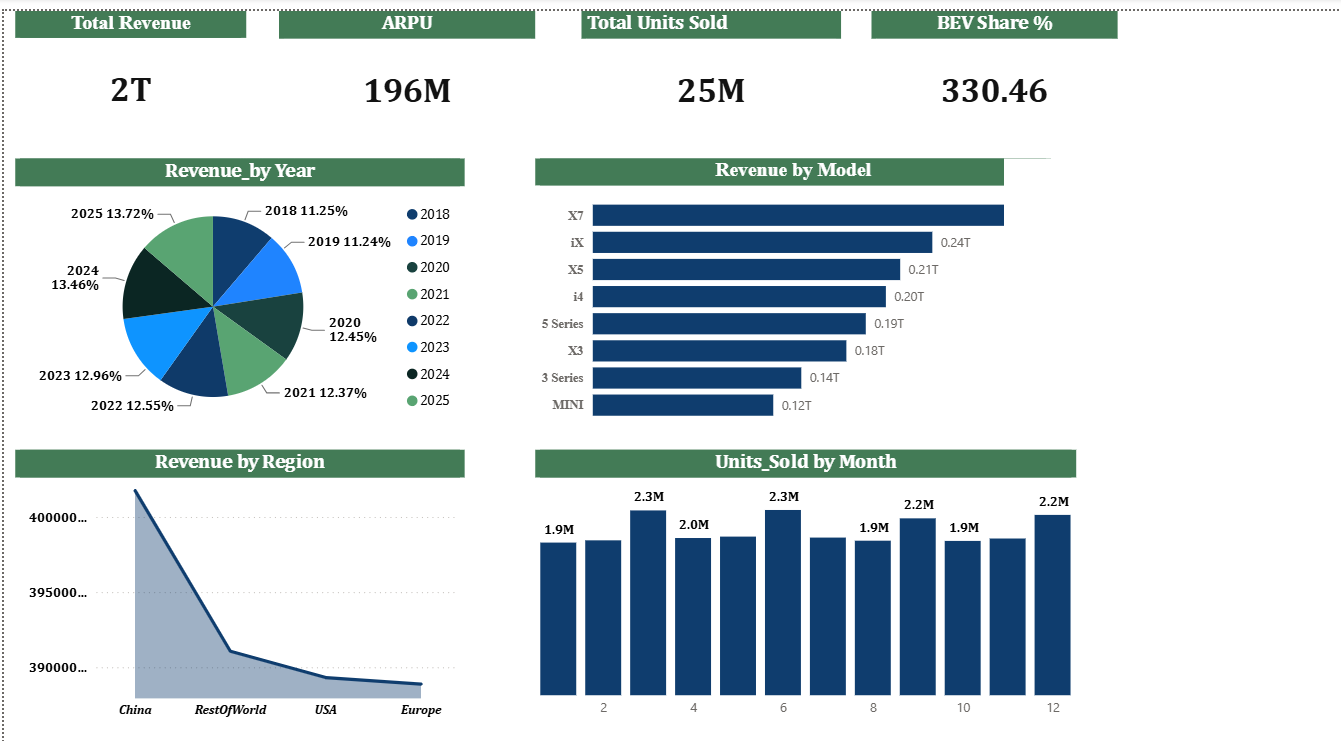

Layout of this report page (visuals, bound fields, positions):
{"tool":"powerbi","page":{"name":"Executive Summary","canvas":[1280,720],"ordinal":0},"visuals":[{"type":"cardVisual","title":"Total Revenue","fields":{"Data":["Sum(FactSales.Revenue_EUR)"]},"box":[11,0,220,126],"z":0},{"type":"cardVisual","title":"Total Units Sold","fields":{"Data":["Sum(FactSales.Units_Sold)"]},"box":[550,0,247,126],"z":1000},{"type":"cardVisual","title":"ARPU","fields":{"Data":["Sum(FactSales.Avg_Price_EUR)"]},"box":[262,0,244,126],"z":2000},{"type":"barChart","title":" Revenue by Model","fields":{"Category":["DimModel.Model"],"Y":["Sum(FactSales.Revenue_EUR)"]},"box":[506,140,491,261],"z":3000},{"type":"stackedAreaChart","title":"Revenue by Region","fields":{"Category":["DimRegion.Region"],"Y":["Sum(FactSales.Revenue_EUR)"]},"box":[11,418,428,264],"z":4000},{"type":"pieChart","title":"Revenue_by Year","fields":{"Y":["Sum(FactSales.Revenue_EUR)"],"Series":["DimDate.Year"]},"box":[11,140,428,261],"z":5000},{"type":"columnChart","title":"Units_Sold by Month","fields":{"Category":["DimDate.Month"],"Y":["Sum(FactSales.Units_Sold)"]},"box":[506,418,515,264],"z":6000},{"type":"cardVisual","title":"BEV Share ","fields":{"Data":["Sum(FactSales.BEV_Share)"]},"box":[847.4,0,234.8,126],"z":7000}]}

Visuals, with their boxes in screenshot pixels (x1, y1, x2, y2), scaled from the page's 1280x720 canvas onto the 1341x742 screenshot:
"Total Revenue" cardVisual: <box>12,0,242,130</box>
"Total Units Sold" cardVisual: <box>576,0,835,130</box>
"ARPU" cardVisual: <box>274,0,530,130</box>
" Revenue by Model" barChart: <box>530,144,1045,413</box>
"Revenue by Region" stackedAreaChart: <box>12,431,460,703</box>
"Revenue_by Year" pieChart: <box>12,144,460,413</box>
"Units_Sold by Month" columnChart: <box>530,431,1070,703</box>
"BEV Share " cardVisual: <box>888,0,1134,130</box>
